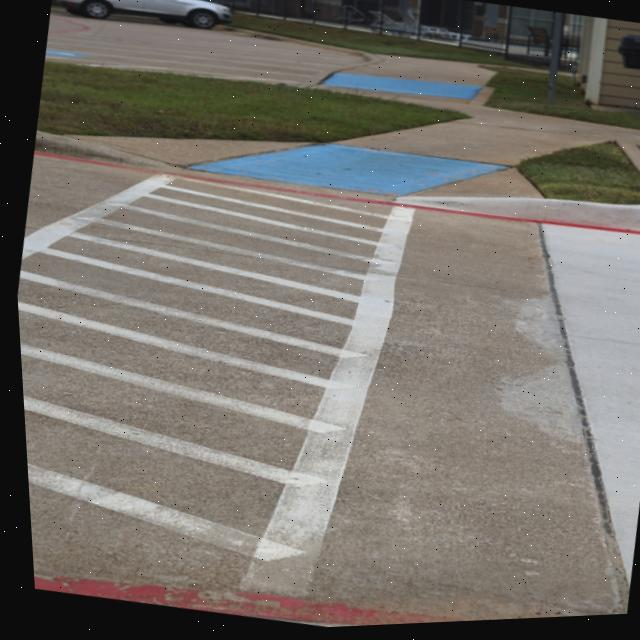Automobile: (51, 0, 231, 30)
Obstacle: (546, 17, 564, 110)
Road: (14, 154, 640, 630), (44, 10, 366, 89)
Sidewalk: (32, 57, 640, 202)
